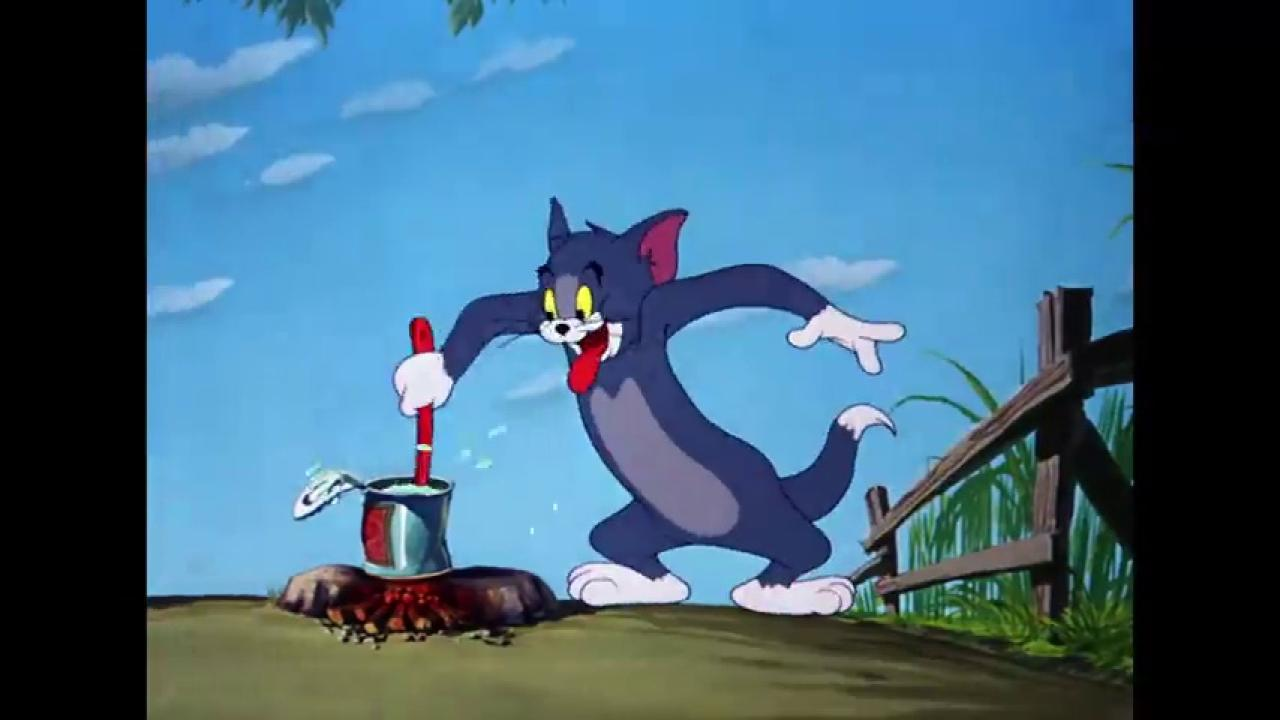Tom: (392, 193, 909, 618)
